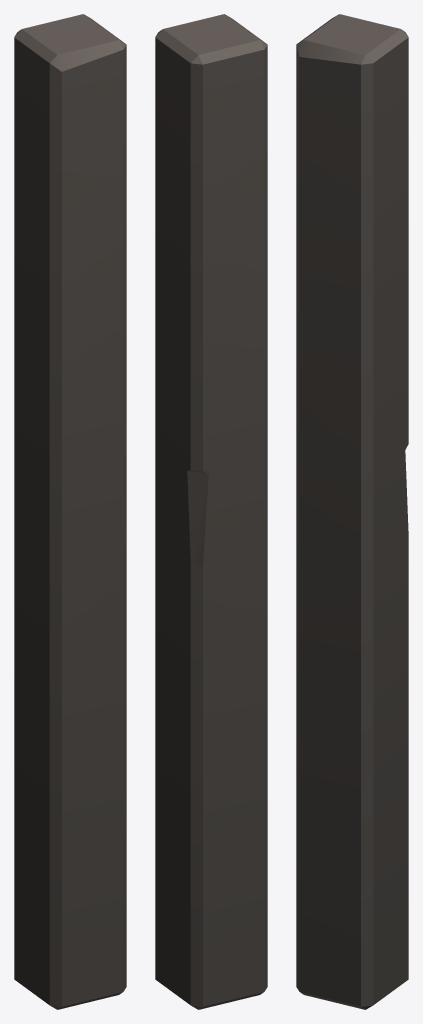
File: TSP_Concrete_Column_01A.fbx
3 renders of one model, left to right at view 1: azimuth 30°, elevation 25°; view 2: azimuth 210°, elevation 25°; view 3: azimuth 330°, elevation 25°, orthographic.
Parts seen in each view (by area): view 1: TSP_Concrete_Column_01A; view 2: TSP_Concrete_Column_01A; view 3: TSP_Concrete_Column_01A.
Boxes of the visible parts, box(x1,y1,x2,y2) form: TSP_Concrete_Column_01A: box(14, 14, 126, 1009); TSP_Concrete_Column_01A: box(155, 14, 267, 1009); TSP_Concrete_Column_01A: box(296, 14, 408, 1009).
Bounding box in the file's own units: 0.2532 × 3 × 0.2532.
